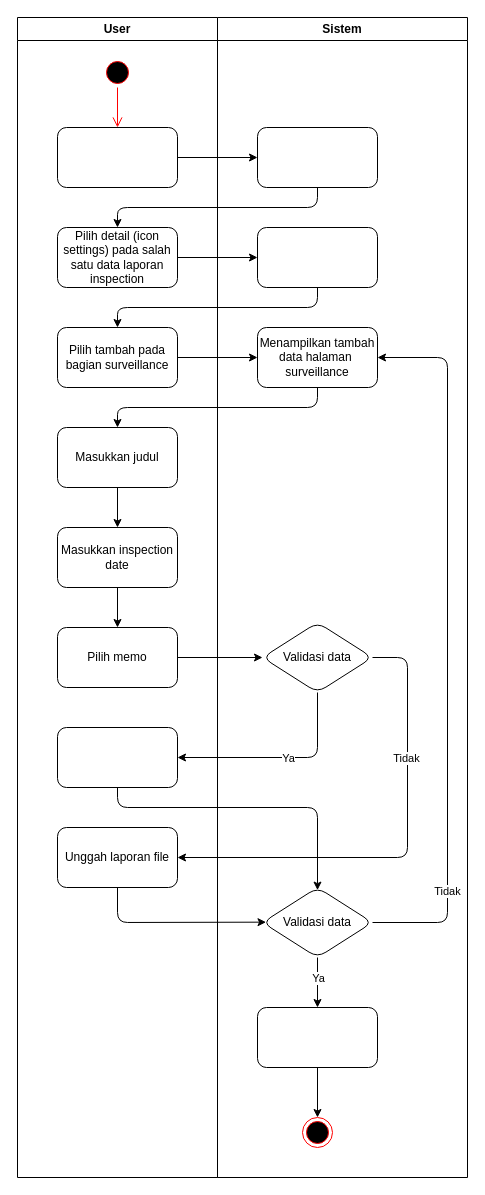
This 485x1195 diagram has some shape labels left out. Here are the shapes that lost their labels. From the top down, the centre of each, then its label:
At point (117, 157): "Pilih fitur laporan inspection".
At point (317, 157): "Menampilkan halaman laporan inspection".
At point (317, 257): "Menampilkan halaman surveillance".
At point (117, 757): "Pilih historical memorandum".
At point (317, 1037): "Berhasil menyimpan data surveillance".
